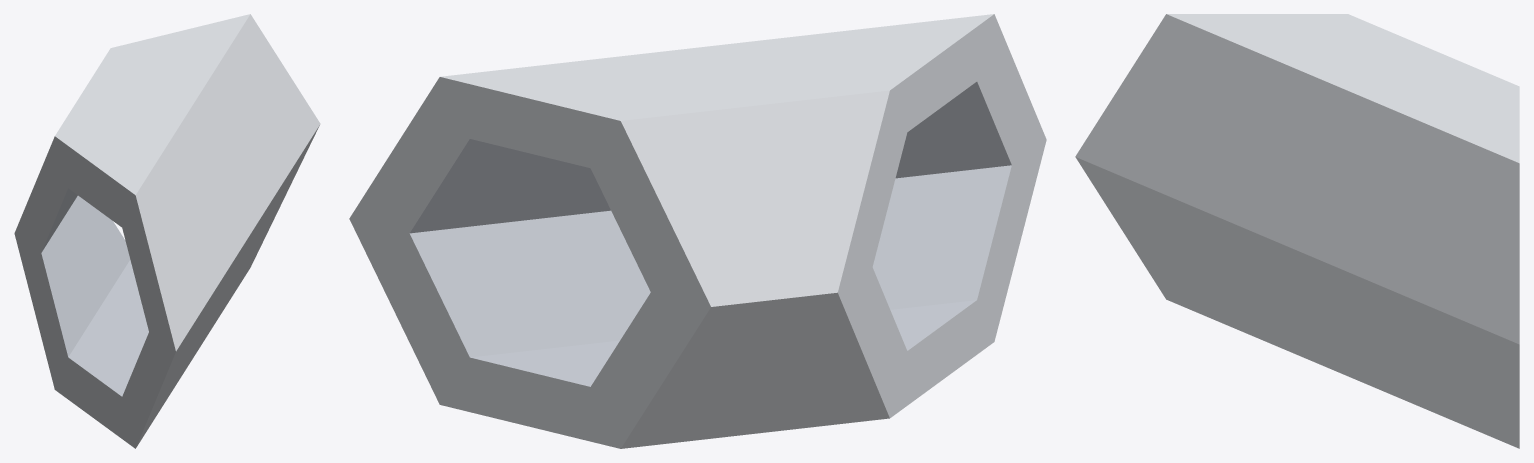
The model's file is pipe_cornerDiagonal.glb.
3 renders of one model, left to right at view 1: azimuth 30°, elevation 25°; view 2: azimuth 150°, elevation 25°; view 3: azimuth 270°, elevation 25°, orthographic. The views are drawn at different scales.
Parts seen in each view (by area): view 1: pipe_cornerDiagonal; view 2: pipe_cornerDiagonal; view 3: pipe_cornerDiagonal.
Part boxes in pixels (bbox=[...]): pipe_cornerDiagonal: bbox=[14, 14, 320, 448]; pipe_cornerDiagonal: bbox=[349, 14, 1046, 448]; pipe_cornerDiagonal: bbox=[1075, 14, 1519, 448].
Size of the model in its own units: 0.8464 by 0.6 by 0.8464.
Materials: 1 (1 with a texture image).
